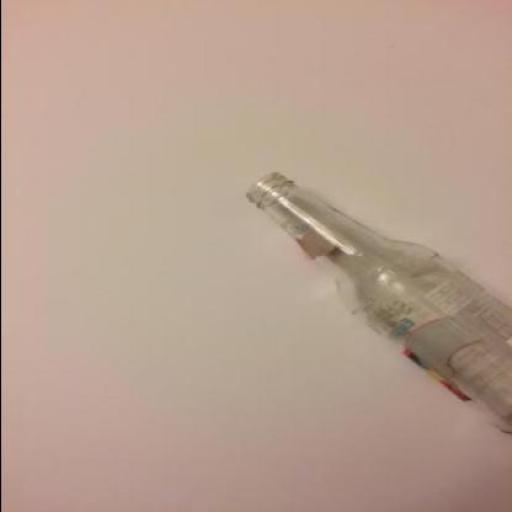glass: (250, 171, 511, 441)
